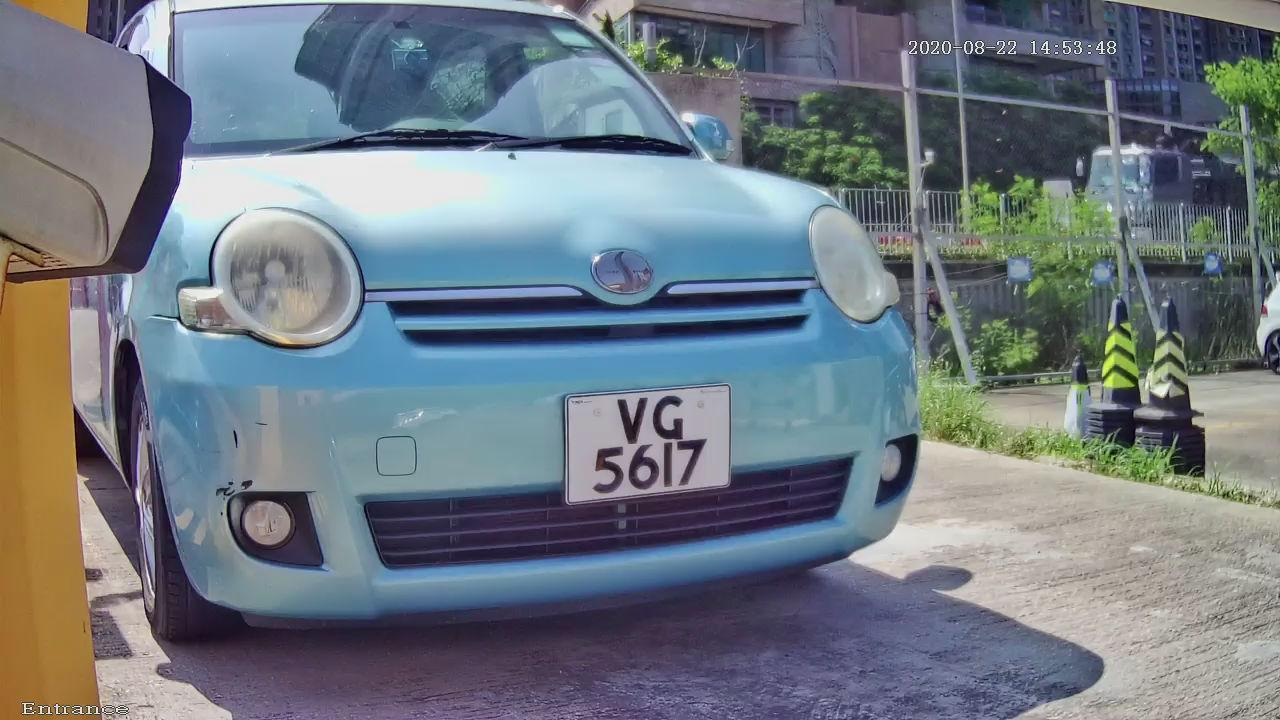Car: (18, 4, 995, 708)
License Plate: (555, 373, 743, 521)
